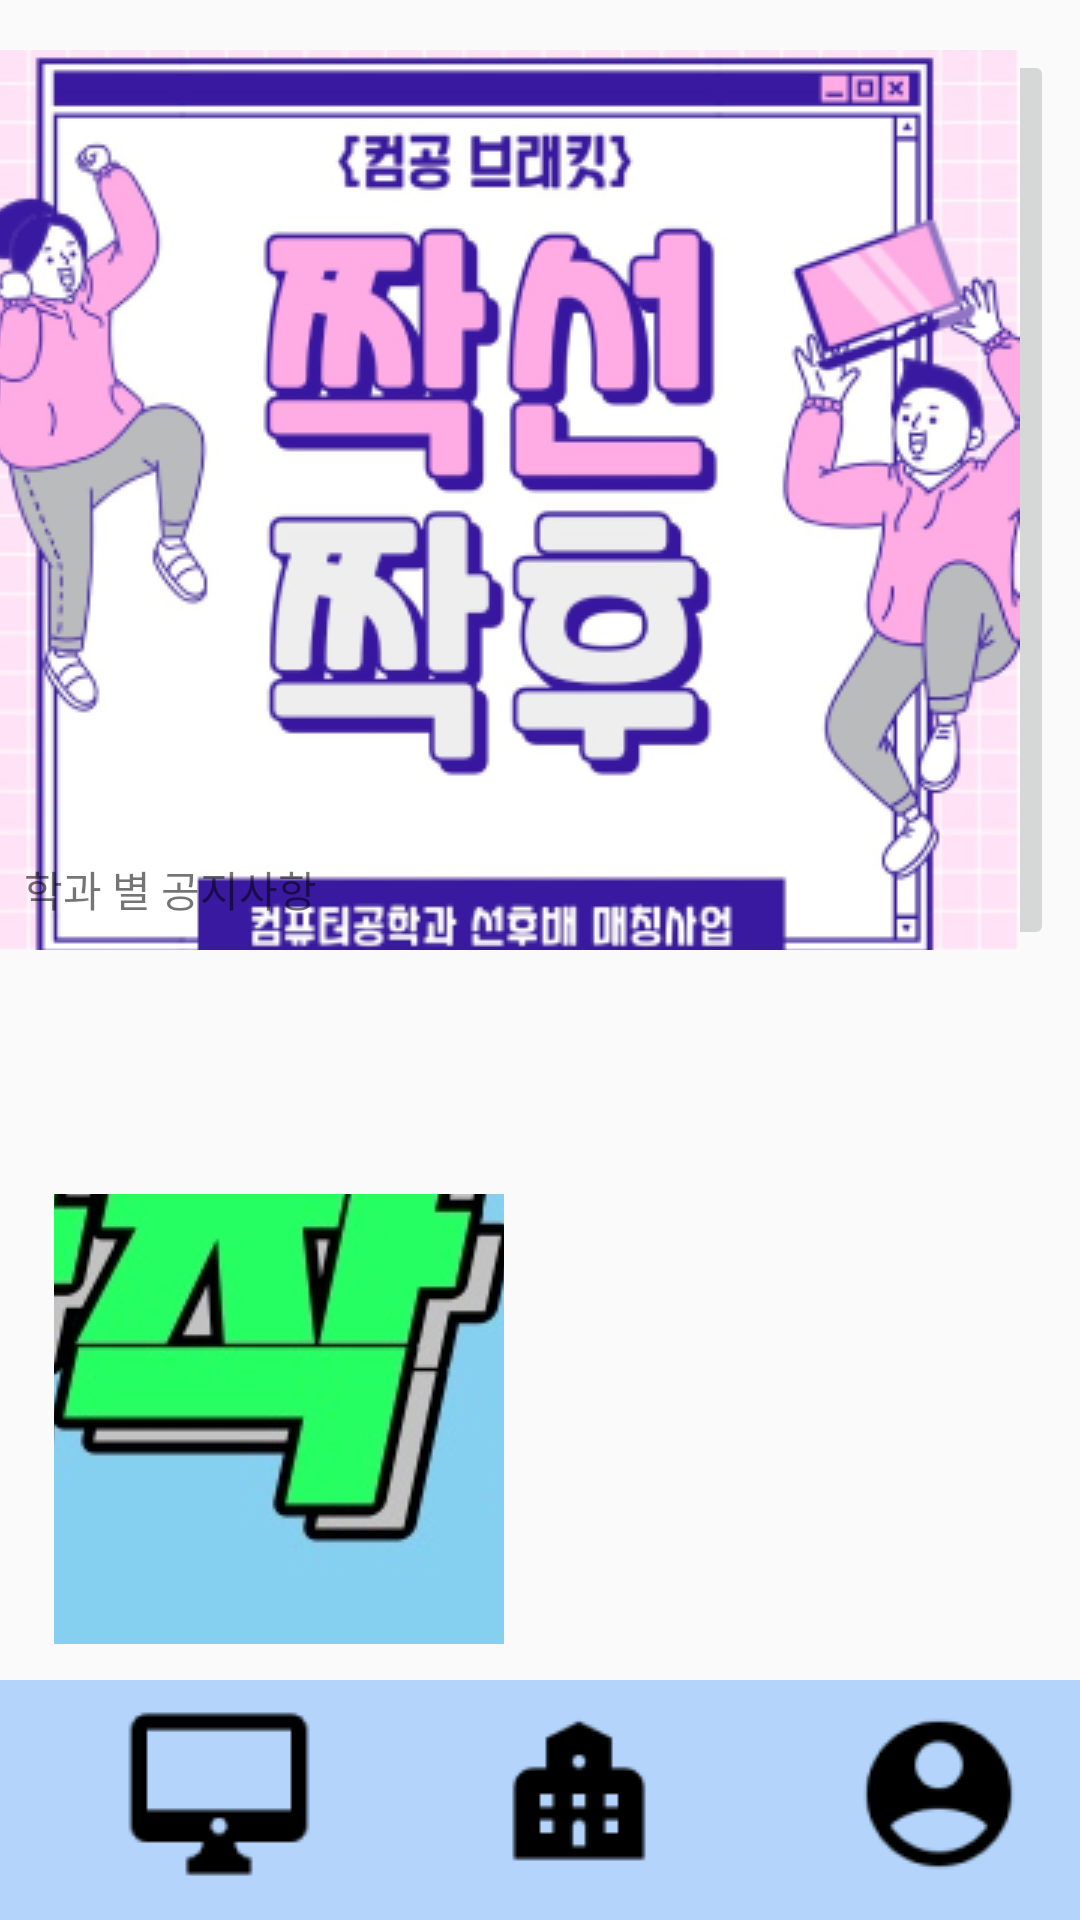

Icons on this 1080px x 1920px Android screen, each with its box as (x1,y1,x2,y2):
sch: (512,1721,646,1861)
